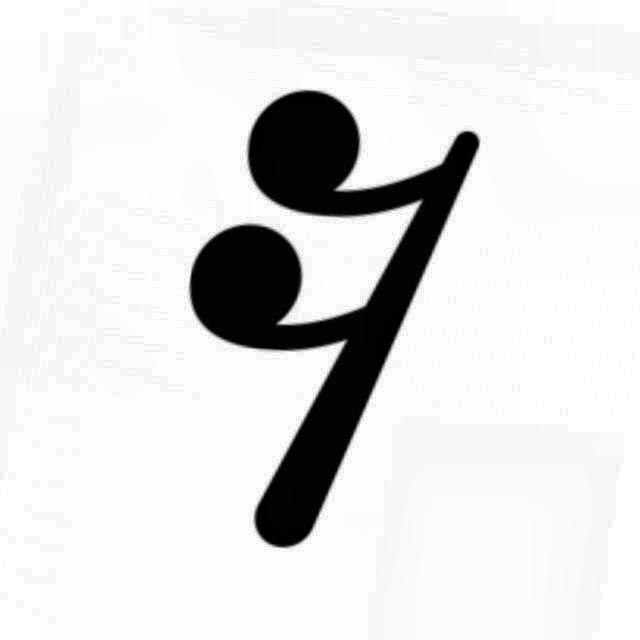Eighth-rest: (142, 84, 506, 556)
